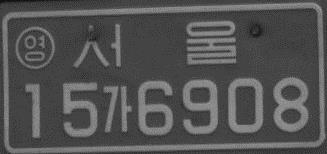0: (227, 76, 264, 135)
1: (20, 81, 45, 141)
5: (60, 80, 100, 139)
6: (135, 78, 175, 138)
8: (271, 75, 309, 132)
9: (182, 79, 219, 134)
가: (100, 84, 133, 134)
서울_D: (71, 19, 239, 70)
영: (15, 25, 57, 70)
